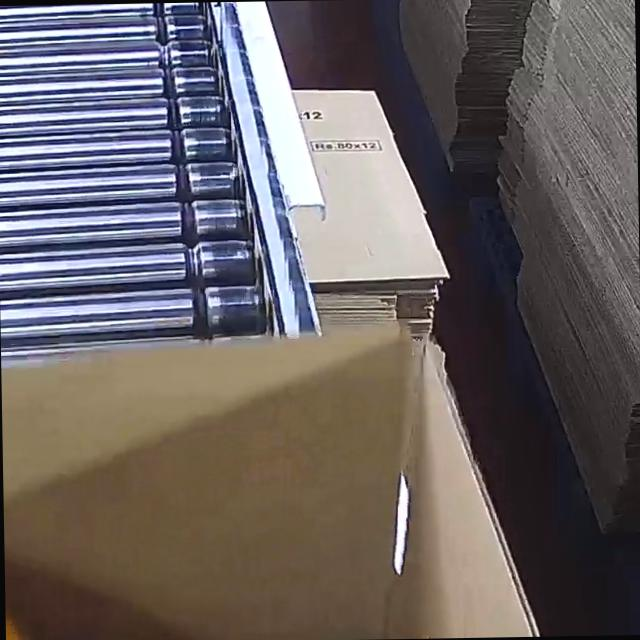cheese: (3, 526, 446, 640)
